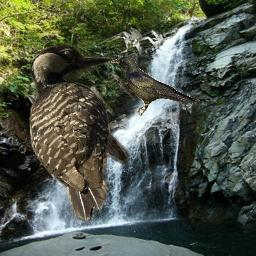Crow: (108, 56, 197, 116)
Woodpecker: (29, 43, 134, 226)
